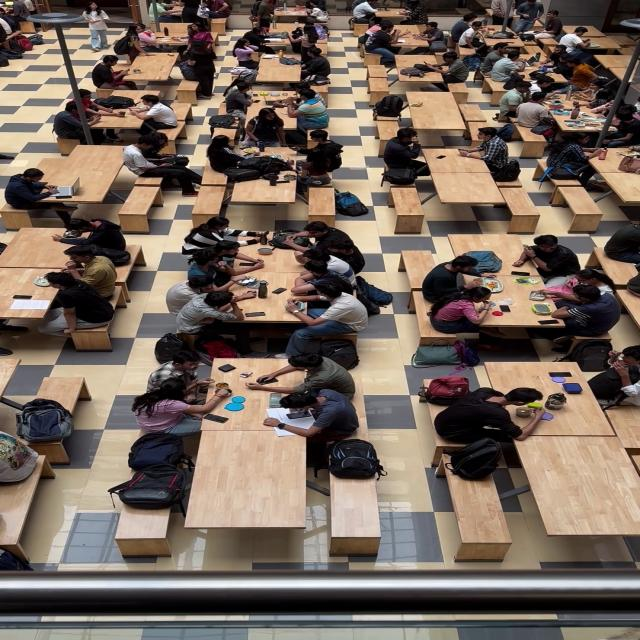Occupied: (166, 214, 380, 348), (418, 232, 624, 338), (411, 349, 640, 438), (136, 349, 374, 432), (204, 72, 354, 188), (472, 45, 640, 131), (30, 214, 142, 332), (388, 117, 538, 188), (48, 77, 182, 137), (0, 396, 84, 481), (109, 130, 209, 195), (95, 18, 239, 62), (462, 7, 592, 49), (121, 434, 193, 504), (311, 434, 392, 492), (348, 18, 451, 61), (427, 436, 520, 483), (565, 130, 640, 186), (0, 165, 89, 212), (136, 0, 238, 34), (391, 49, 479, 82), (338, 0, 434, 30), (364, 76, 430, 119), (248, 0, 330, 30), (0, 0, 47, 17)
Unoccupied: (198, 434, 311, 531), (525, 439, 640, 533), (425, 169, 503, 210), (451, 484, 509, 534), (0, 253, 27, 339), (115, 509, 171, 546), (332, 490, 375, 533), (562, 186, 608, 222), (55, 142, 124, 166), (0, 481, 28, 540), (32, 369, 92, 396), (115, 180, 163, 211), (236, 182, 294, 206), (389, 186, 427, 221), (500, 179, 541, 211), (414, 107, 466, 131), (194, 184, 226, 219), (309, 188, 335, 215)
